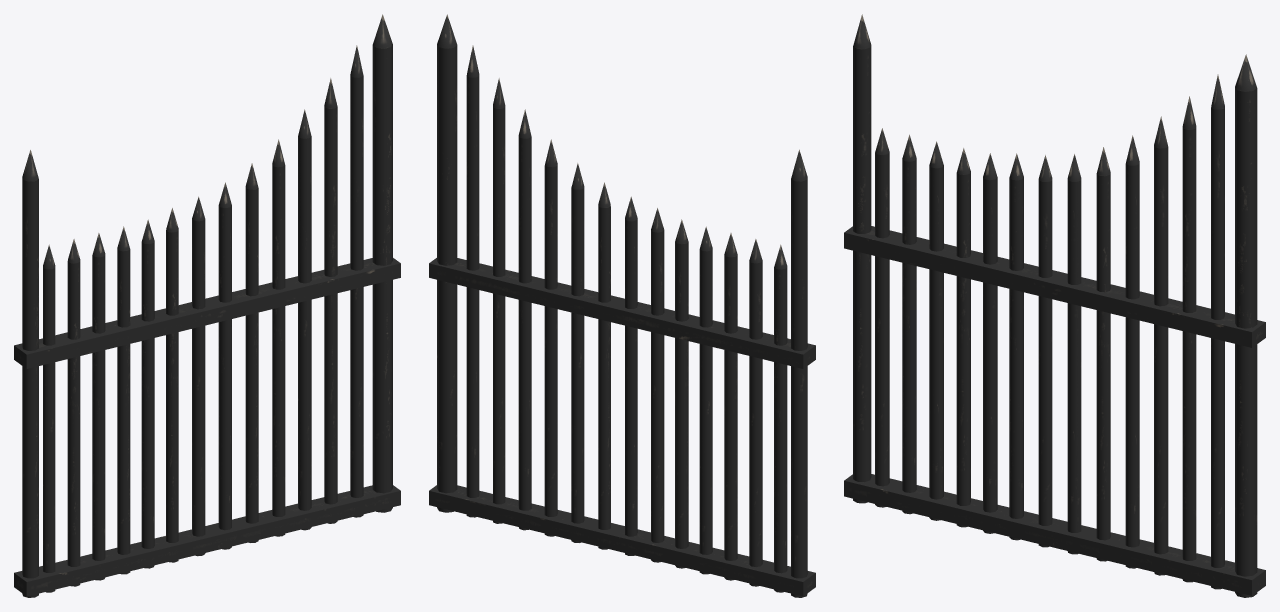
File: M_Gate.fbx
The picture shows the model from 3 angles, left to right: view 1: azimuth 30°, elevation 25°; view 2: azimuth 150°, elevation 25°; view 3: azimuth 330°, elevation 25°; orthographic projection. The views are drawn at different scales.
Visible parts, largest first — view 1: polySurface77; view 2: polySurface77; view 3: polySurface77.
Boxes of the visible parts, <box> form: polySurface77: <box>14,14,400,597</box>; polySurface77: <box>429,14,815,597</box>; polySurface77: <box>844,14,1265,597</box>.
Size of the model in its own units: 4.3 by 5.43 by 0.2536.
